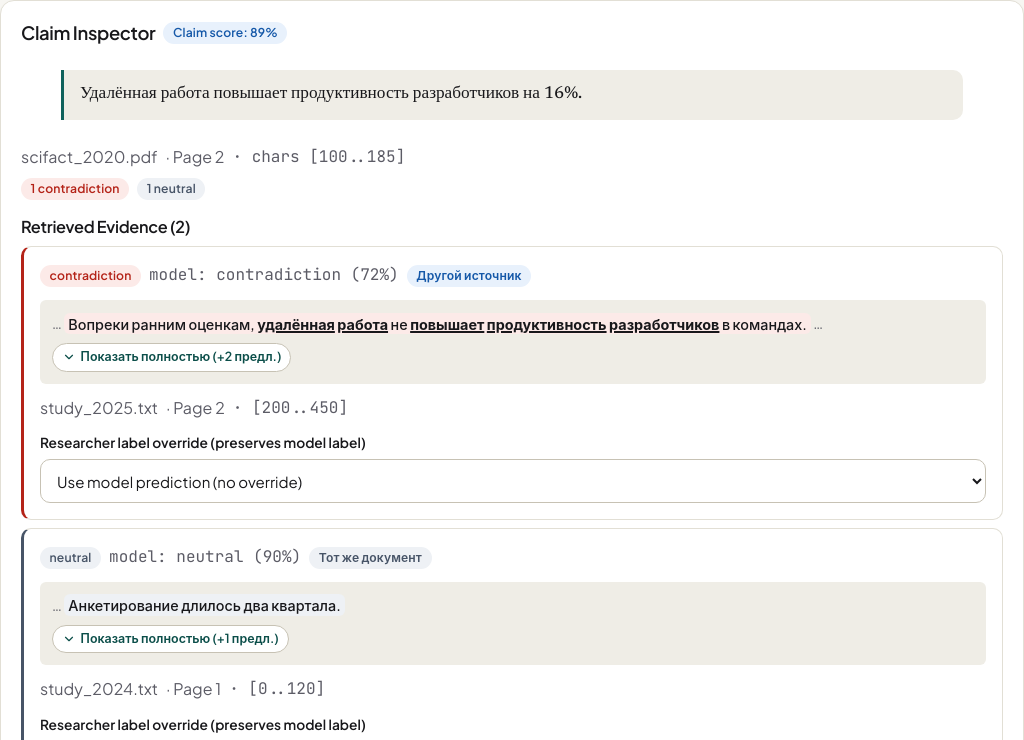
Test case: ClaimDetailDrawer › highlights the key sentence, collapses long passages behind Show more, and prioritizes contradictions
This screenshot has width=1024, height=740.
Expected: the text "contradiction" is shown, [50,267,131,283]
Expected: the text "Другой источник" is shown, [416,267,522,283]
Note: Expand full passage
What coordinates should you click on to do the following:
click the button "Показать полностью (+2 предл.)"
I would click on:
 (172, 357)
Its box is [52,343,291,372].
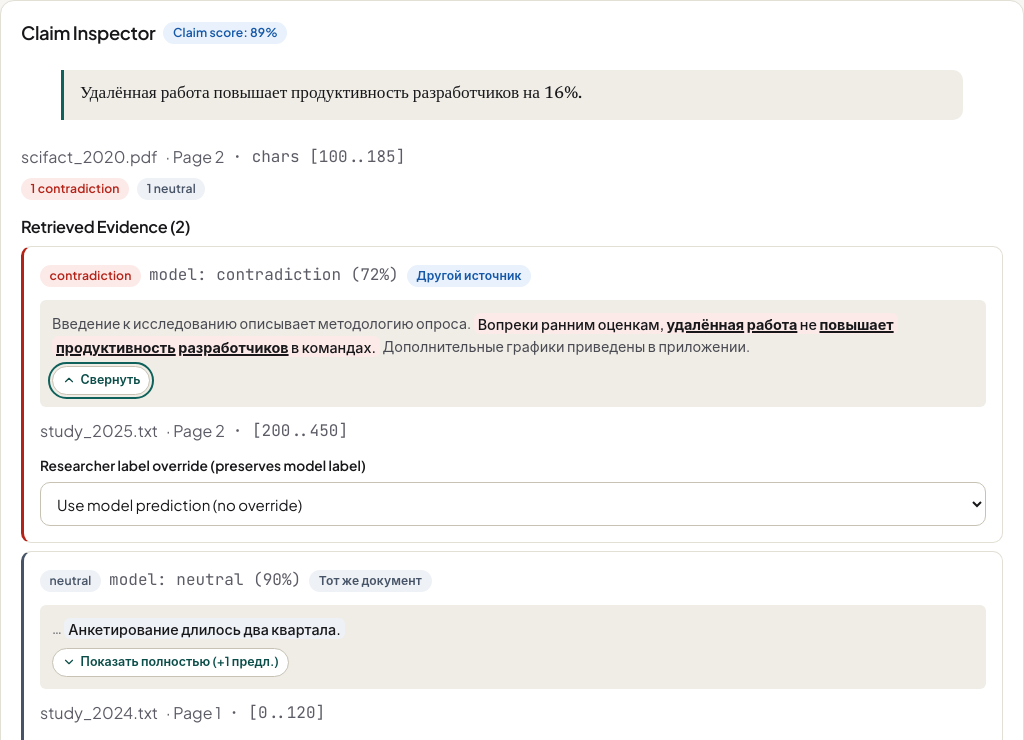
Expected: the text "Введение к исследованию" is shown, [52,314,471,332]
Expected: the text "Дополнительные графики" is shown, [382,337,750,355]
Note: Collapse back
What coordinates should you click on to do the following:
click the button "Свернуть"
I would click on:
 (101, 380)
Its box is [52,366,150,395].
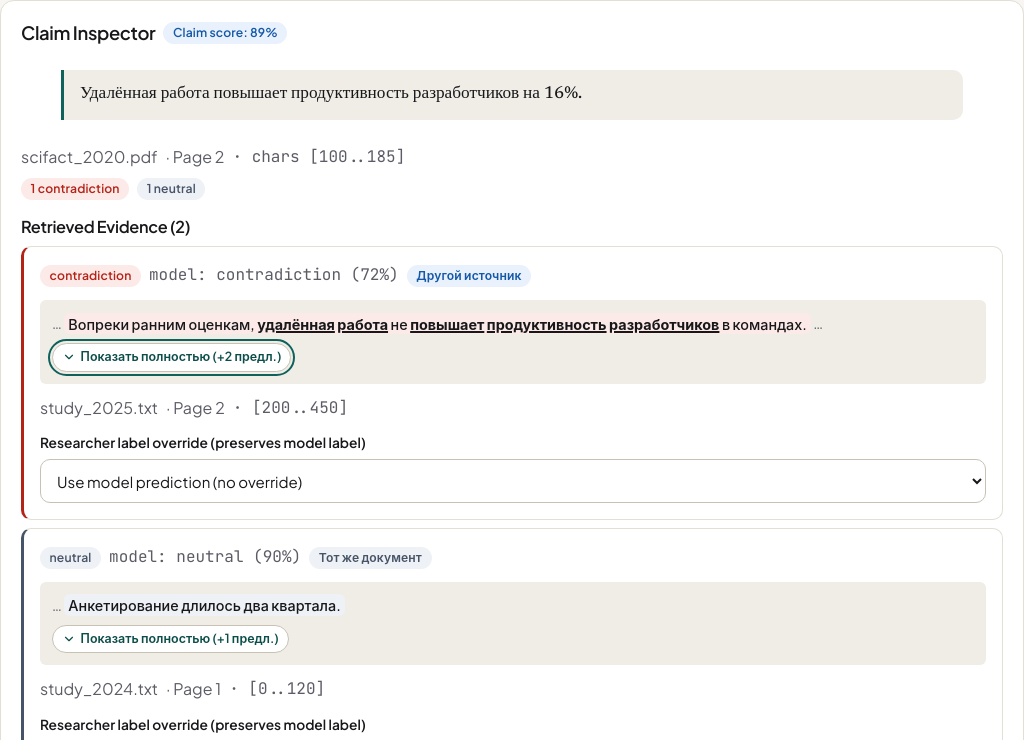
Expected: the text "Введение к исследованию" is gone, [21,246,1003,520]
